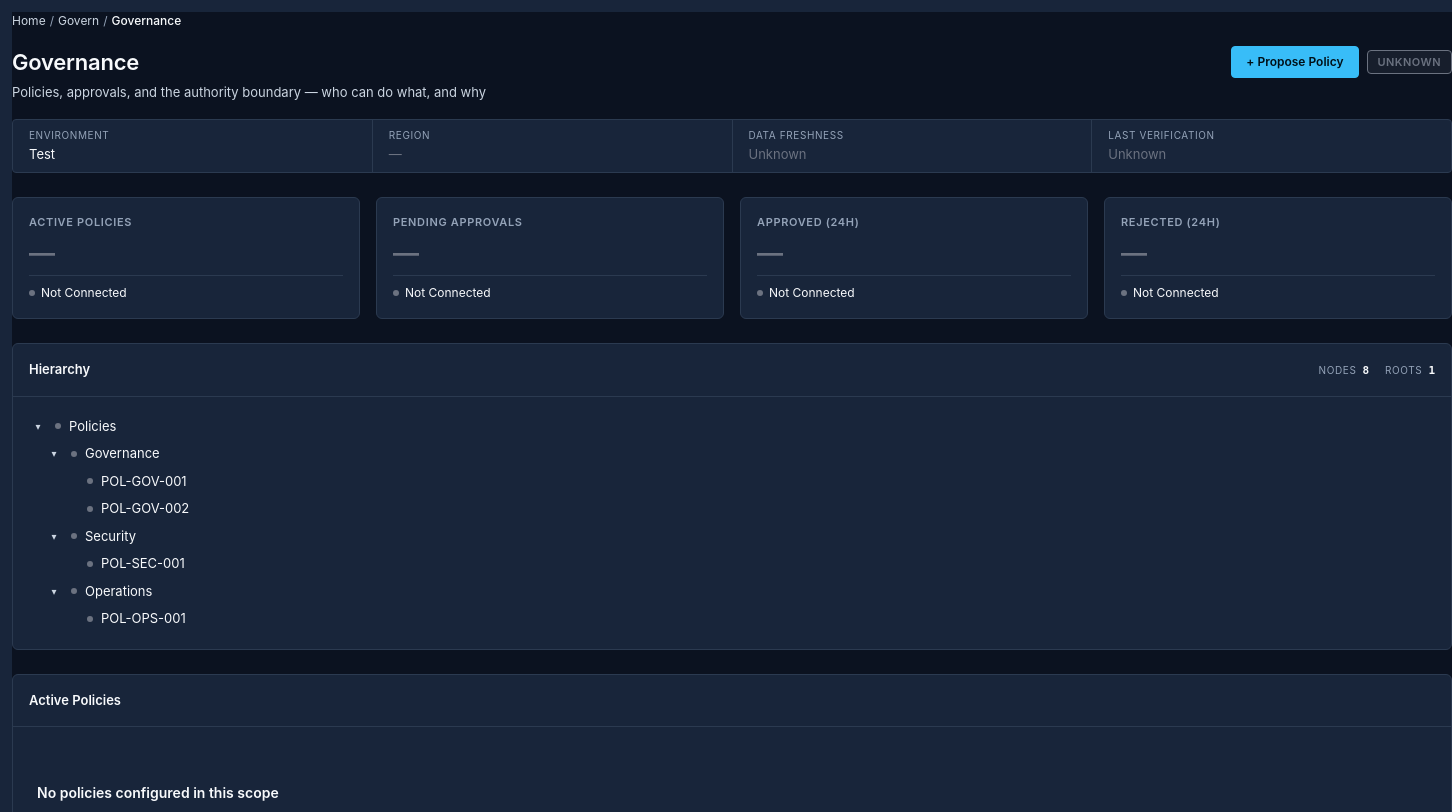
GovernancePage › collapsing the root hides all descendants
Click the button with test id "eg-tree-toggle-root" at (38, 426), box [29, 417, 47, 435]
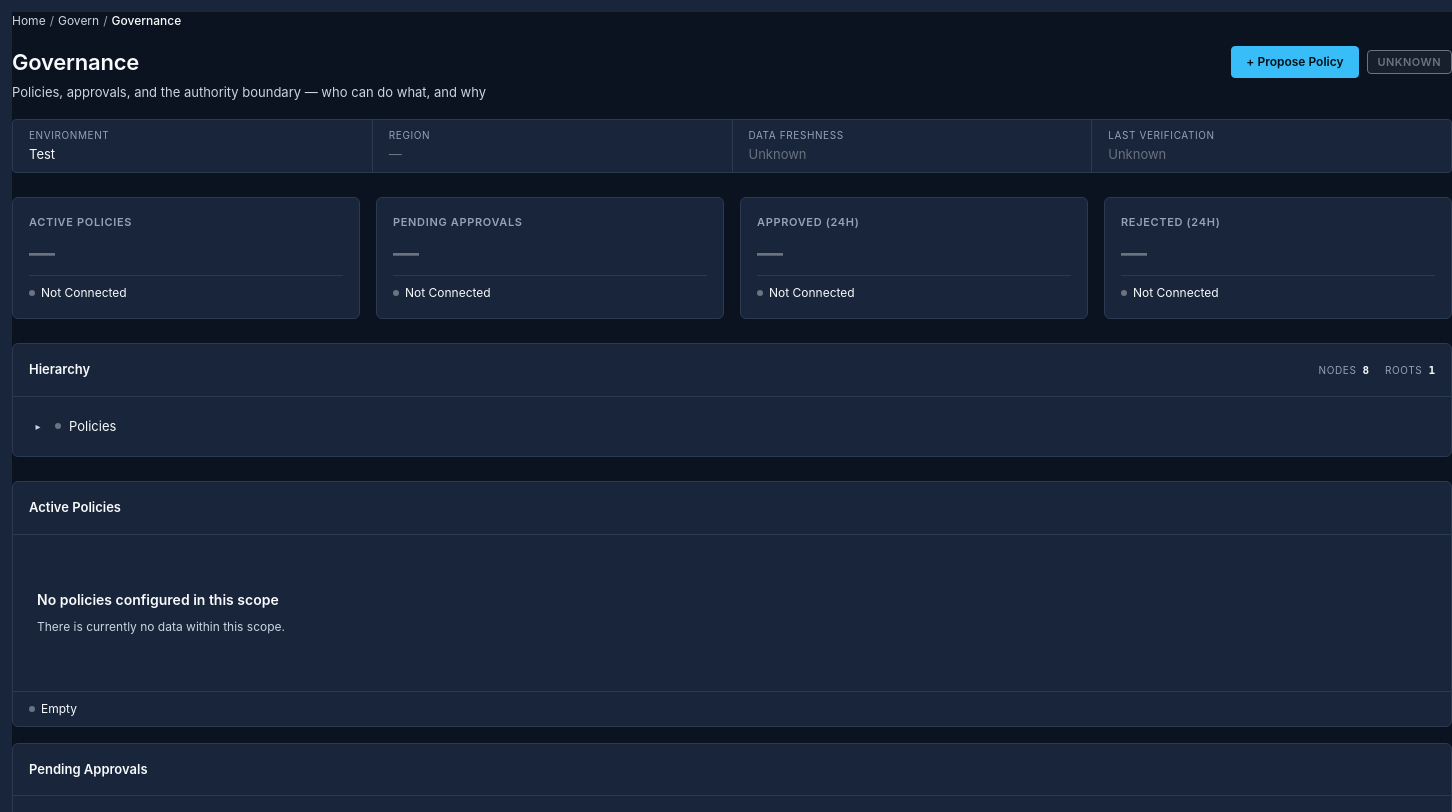
Result: the text "POL-GOV-001" is gone
Result: the text "POL-GOV-002" is gone
Result: the text "POL-SEC-001" is gone
